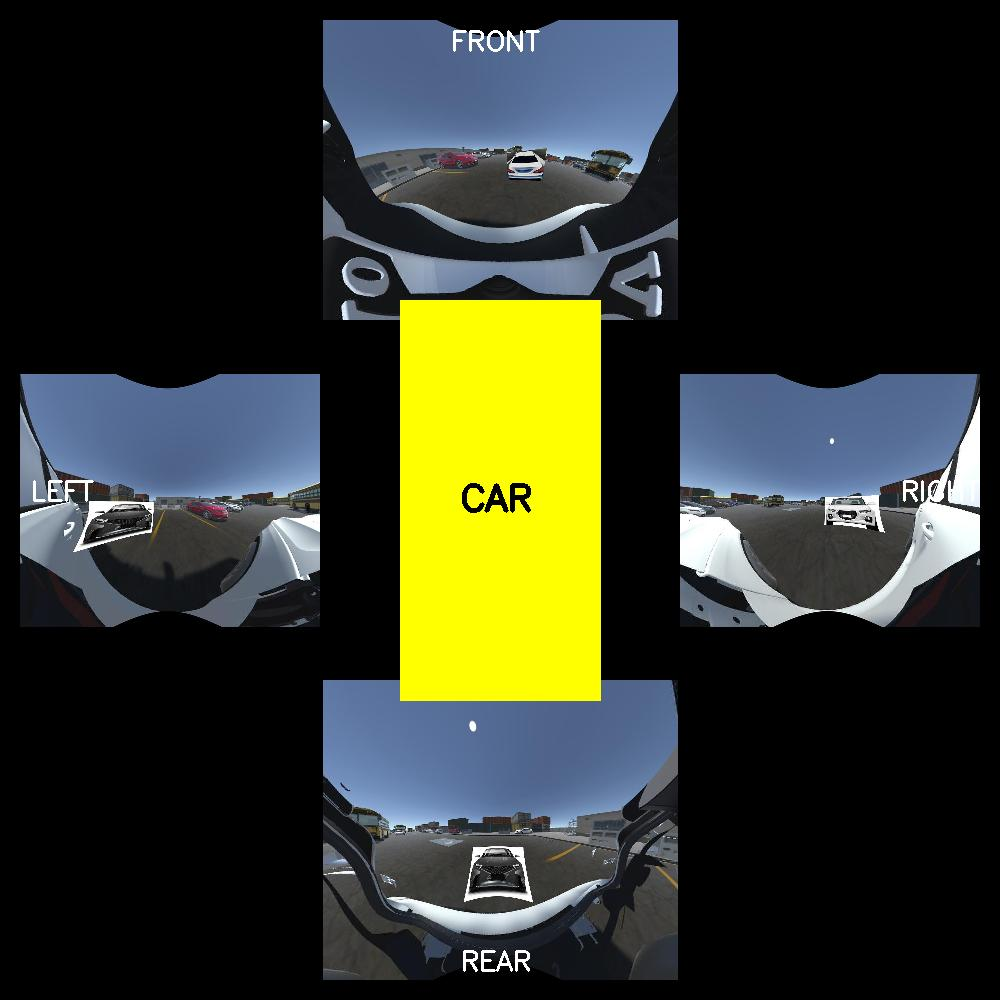Car: (80, 501, 162, 544), (472, 846, 528, 898), (822, 491, 885, 535), (507, 145, 548, 182)
